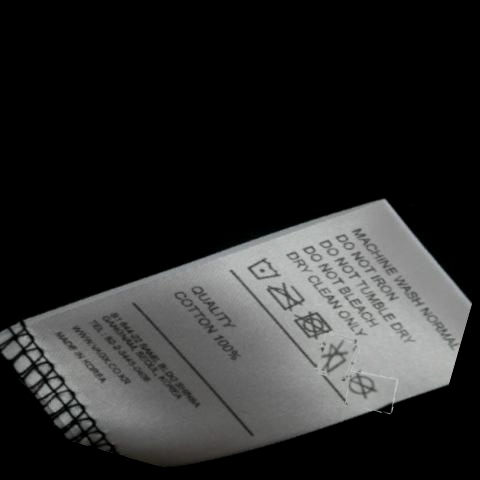30C: (250, 256, 279, 281)
DN_bleach: (322, 342, 355, 374)
DN_dry_clean: (347, 373, 378, 400)
DN_iron: (271, 283, 307, 312)
DN_tumble_dry: (296, 309, 334, 339)
